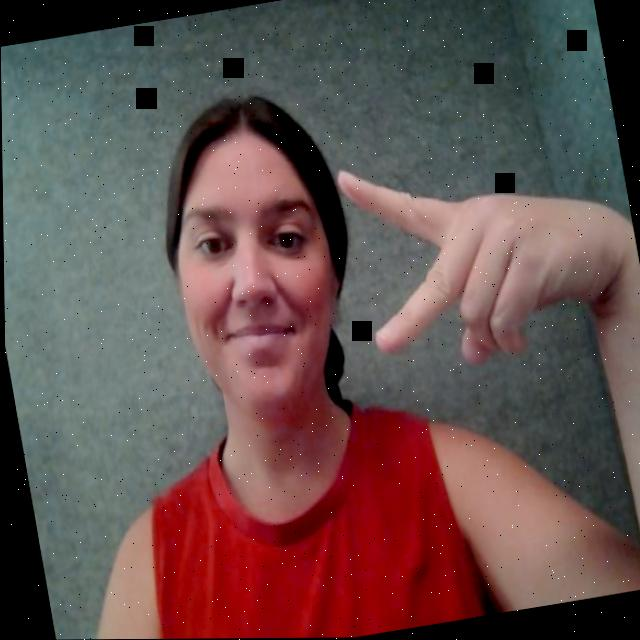Paper: (114, 343, 469, 639)
Scissors: (318, 128, 630, 402)
